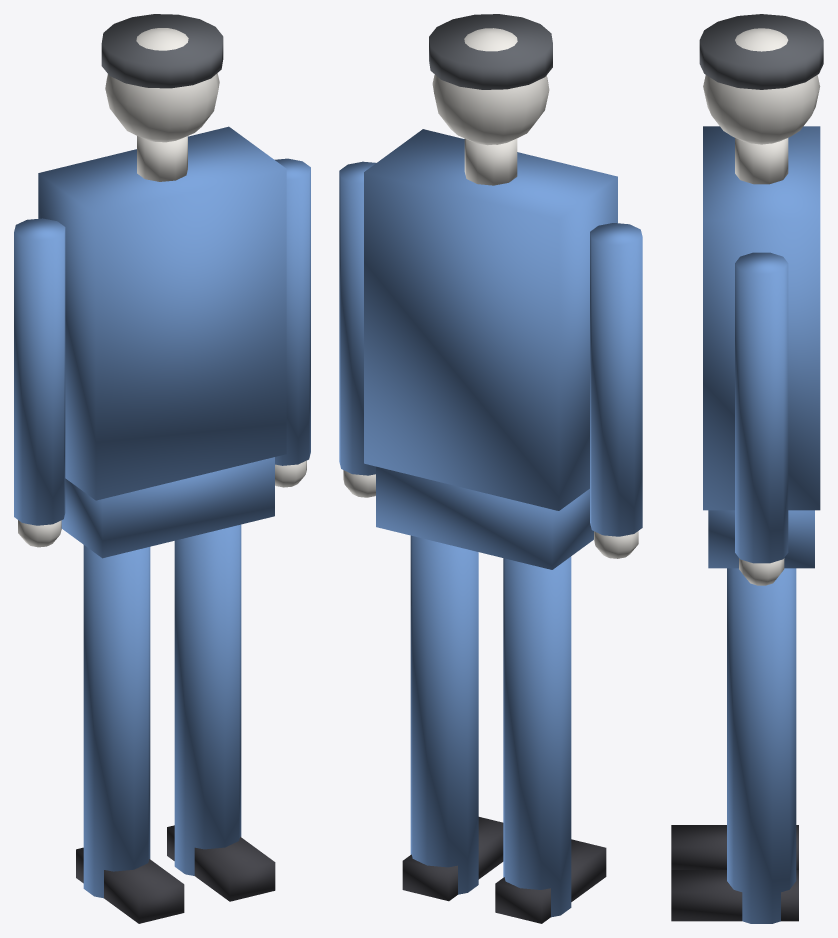
File: SM_MannequinGuard.fbx
The picture shows the model from 3 angles, left to right: view 1: azimuth 30°, elevation 25°; view 2: azimuth 150°, elevation 25°; view 3: azimuth 270°, elevation 25°; orthographic projection. The views are drawn at different scales.
Visible parts, largest first — view 1: SM_MannequinGuard; view 2: SM_MannequinGuard; view 3: SM_MannequinGuard.
Part boxes in pixels (x1,y1,x2,y2): SM_MannequinGuard: (14,14,310,923); SM_MannequinGuard: (339,14,642,923); SM_MannequinGuard: (671,14,823,923).
Size of the model in its own units: 0.6527 by 1.82 by 0.2947.
